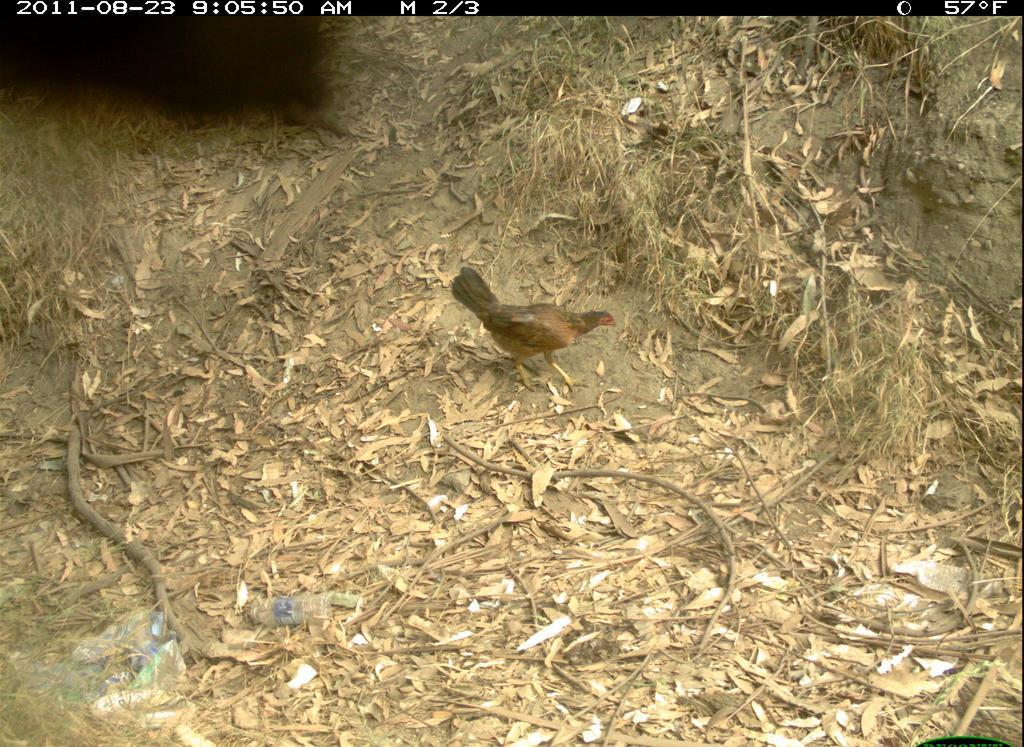bird: (439, 257, 642, 402)
